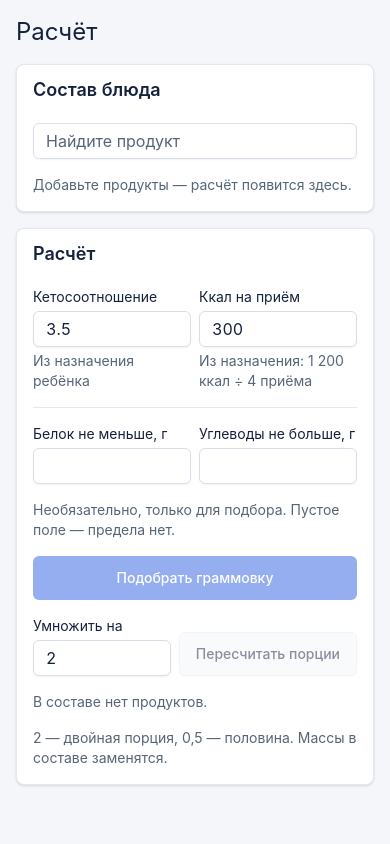
калькулятор в Mini App › в паузу перед запросом не говорит «ничего не нашлось»
Type "фуагра" into the search field labelled "Найдите продукт".
click(195, 141); type("фуагра")  # box [33,123,357,159]
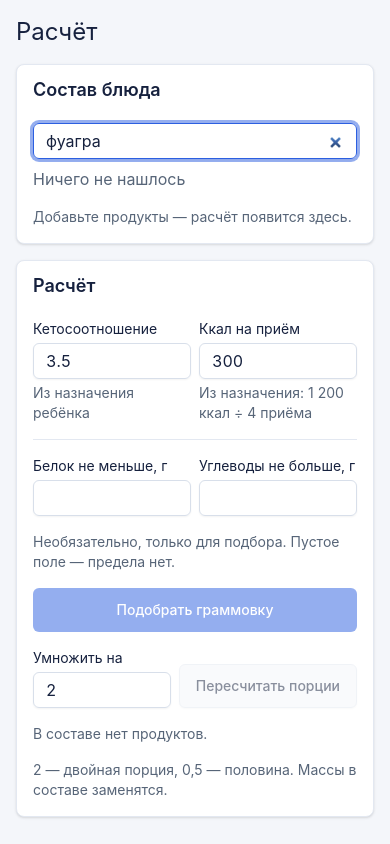
Check: the list item "Ничего не нашлось" is shown, box [33,169,185,189]
Type " по-русски" into the search field named "Найдите продукт".
click(195, 141); type(" по-русски")  # box [33,123,357,159]
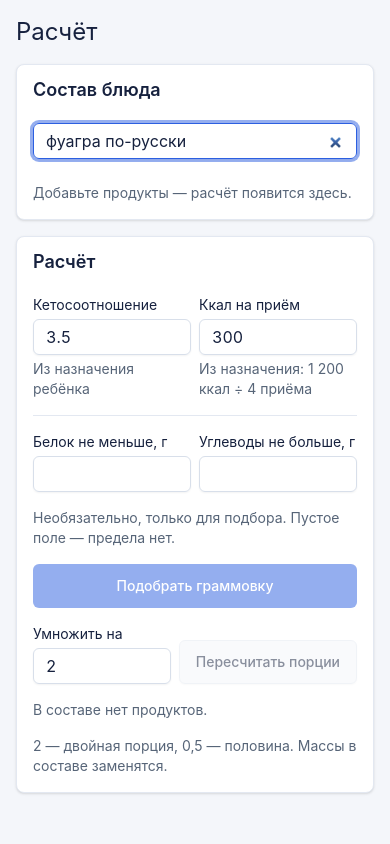
Check: the list item "Ничего не нашлось" is gone
